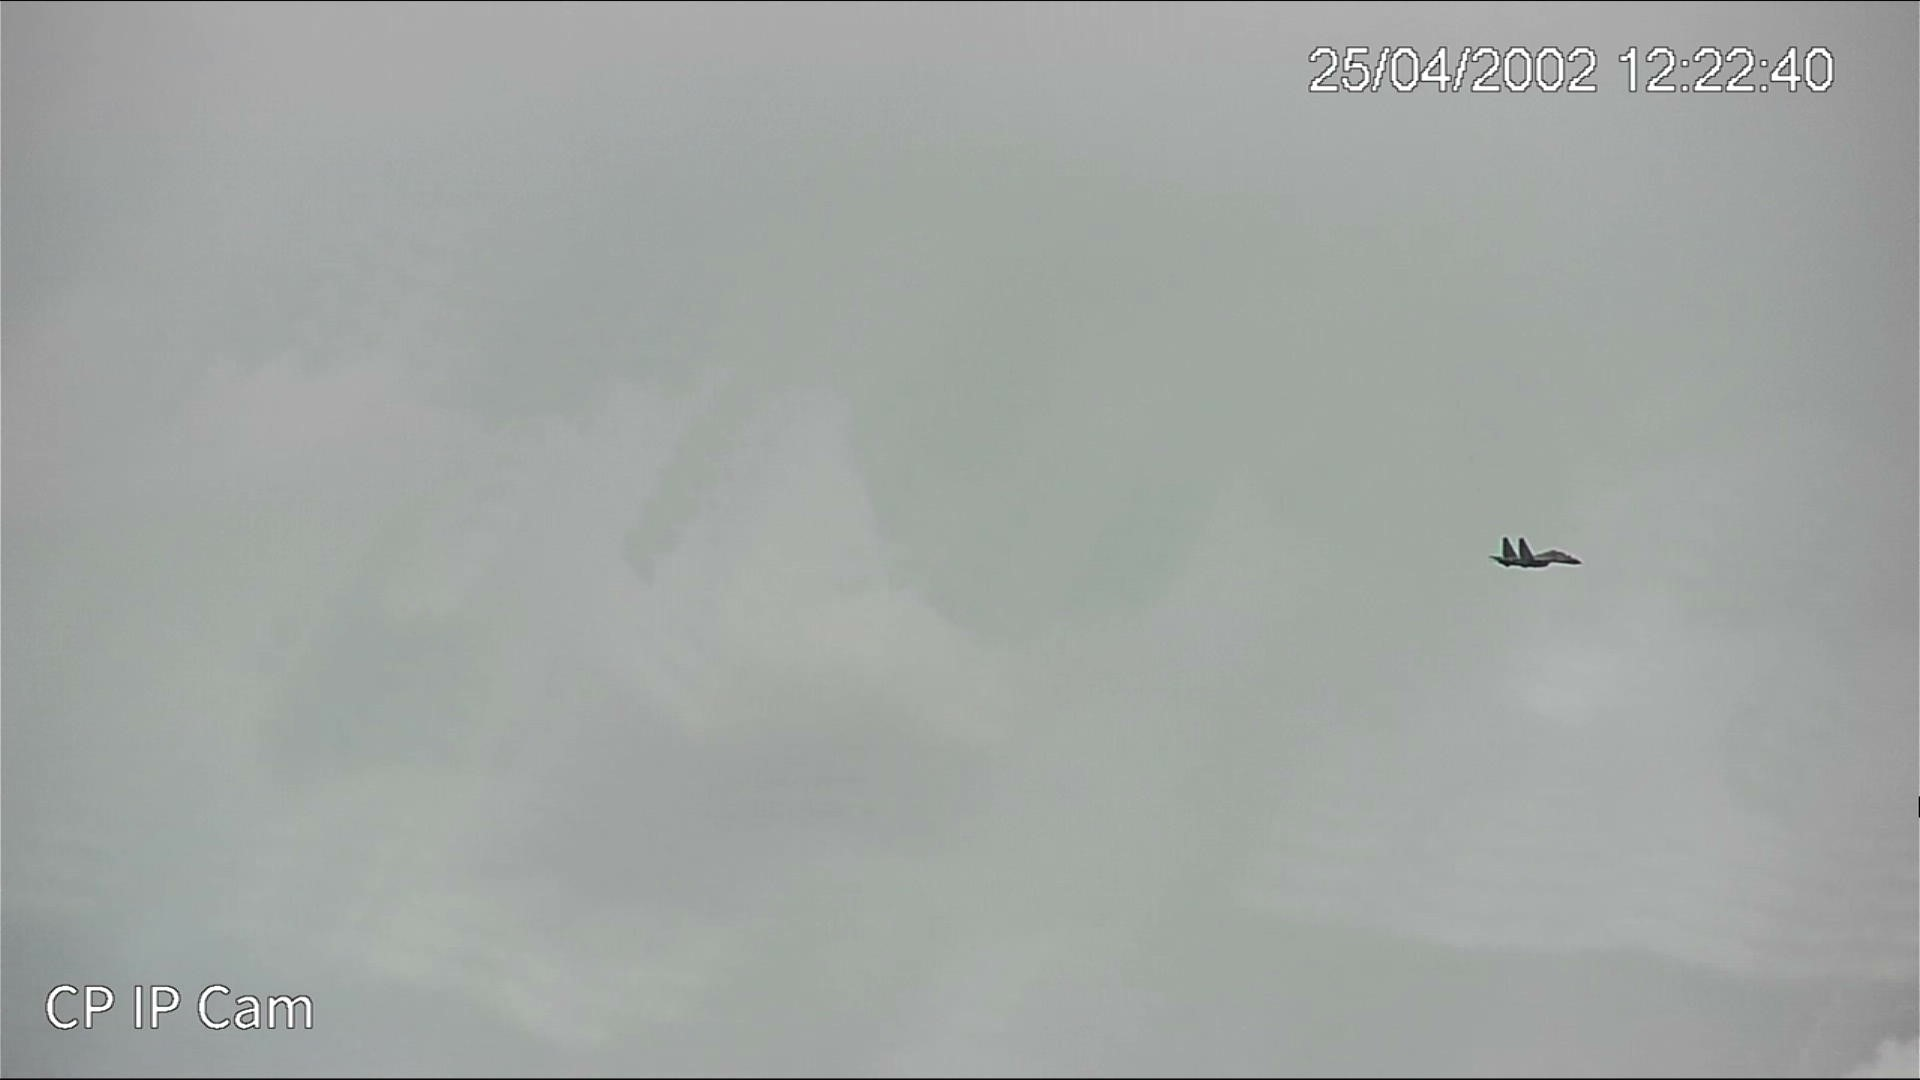SU_30: (1489, 537, 1582, 575)
